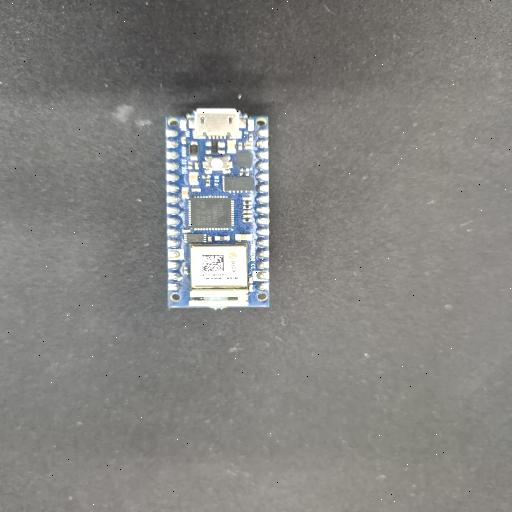arduino-nano-iot-33: (166, 108, 269, 309)
